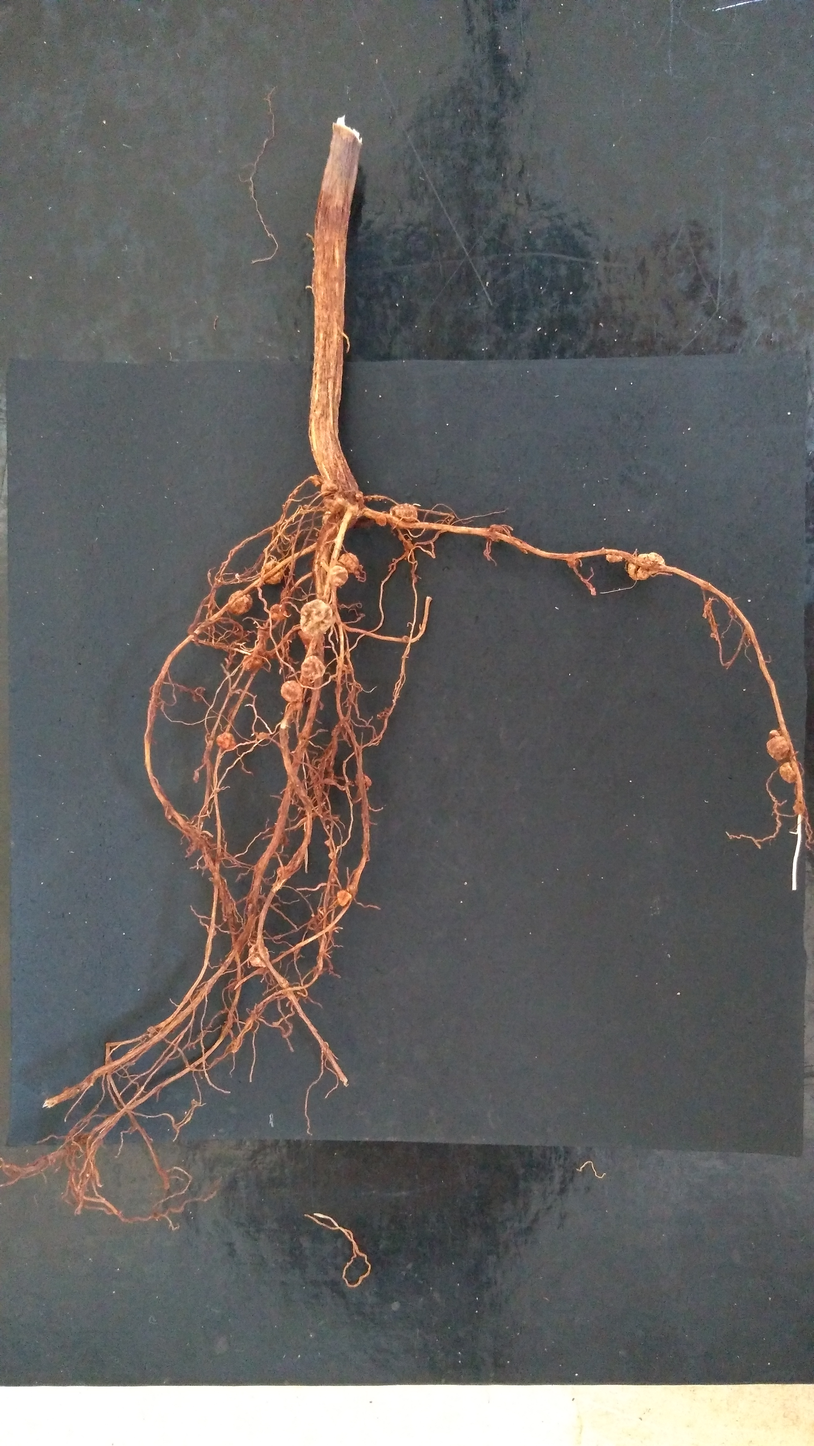nodule: (300, 599, 332, 636), (627, 552, 665, 580), (390, 503, 418, 529), (297, 630, 326, 655), (228, 590, 253, 615), (301, 656, 326, 679), (261, 560, 284, 585), (766, 736, 789, 760), (248, 944, 269, 966), (242, 651, 264, 671), (281, 681, 302, 701), (339, 553, 359, 574), (328, 565, 347, 587), (779, 762, 797, 784), (323, 498, 346, 514), (216, 732, 236, 750), (321, 478, 339, 497), (270, 604, 287, 621), (336, 890, 352, 906), (355, 773, 372, 788), (488, 524, 503, 541), (191, 686, 205, 702), (606, 552, 624, 563), (257, 626, 272, 639), (376, 708, 391, 721), (375, 514, 387, 526), (402, 539, 414, 550), (311, 475, 321, 487), (257, 732, 270, 740), (277, 866, 287, 876), (147, 1026, 156, 1037), (769, 730, 781, 738), (355, 492, 363, 500), (320, 1042, 329, 1049), (403, 636, 409, 643)
